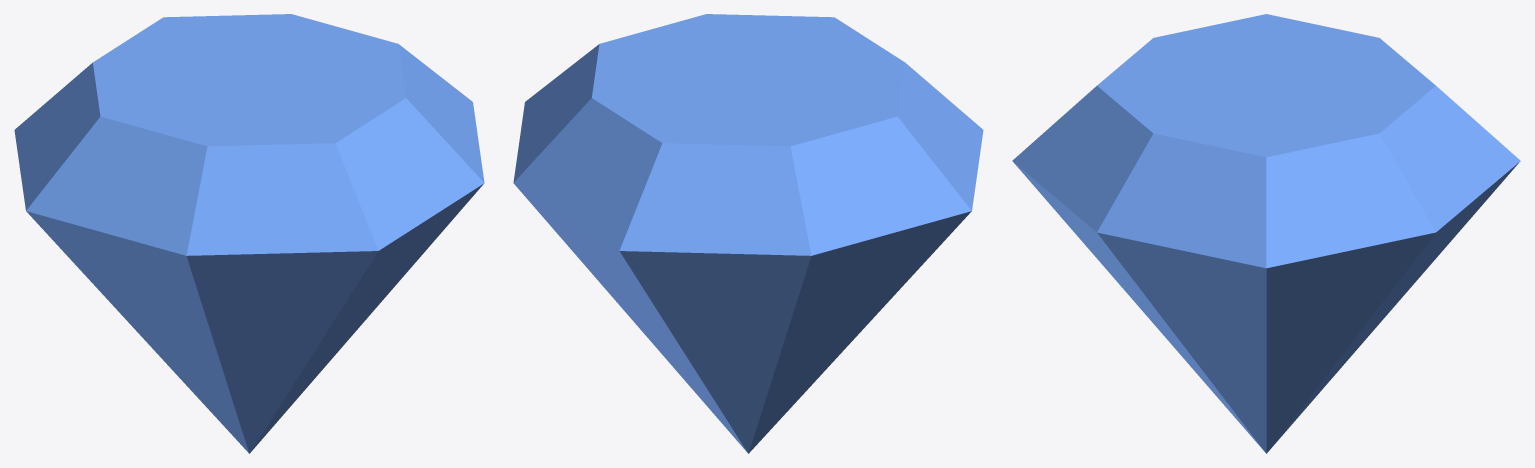
Rendered from Diamond.fbx.
3 renders of one model, left to right at view 1: azimuth 30°, elevation 25°; view 2: azimuth 150°, elevation 25°; view 3: azimuth 270°, elevation 25°, orthographic.
Parts seen in each view (by area): view 1: Diamond; view 2: Diamond; view 3: Diamond.
Part boxes in pixels (x1,y1,x2,y2): Diamond: (14, 14, 484, 453); Diamond: (513, 14, 983, 453); Diamond: (1012, 14, 1520, 453).
Bounding box in the file's own units: 225 × 180 × 225.
